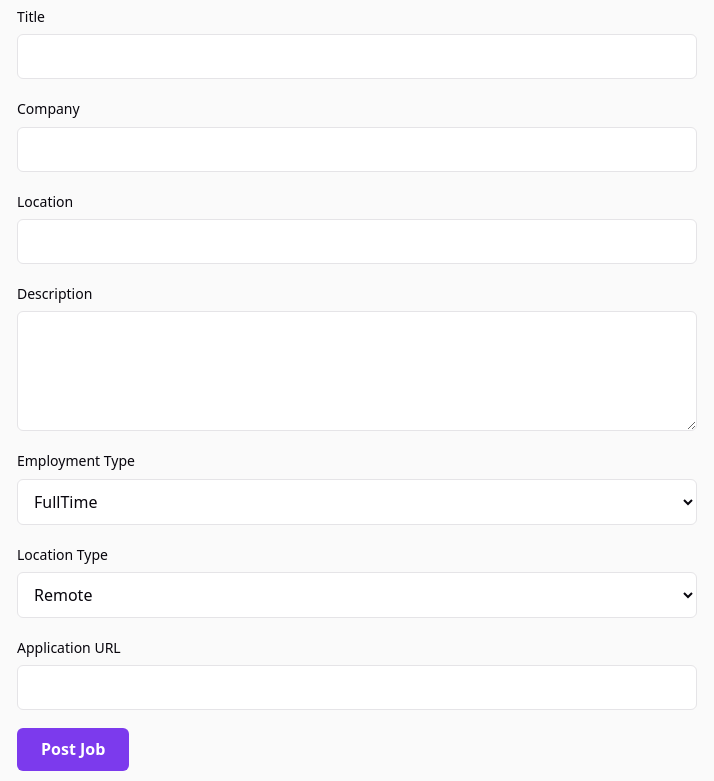
PostJob › rejects an applicationUrl with a disallowed scheme
The width and height of the screenshot is (714, 781).
Type "javascript:alert(1)" into the field labelled "Application URL" at (357, 688), box [17,665,697,710]
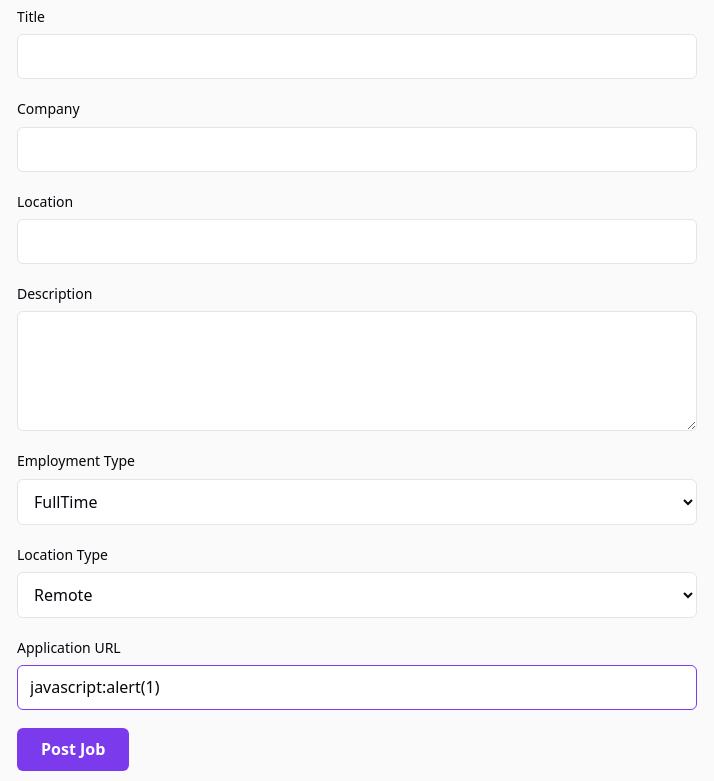
Click the button "Post Job" at (73, 750), box [17,728,129,771]
(page scrolled)
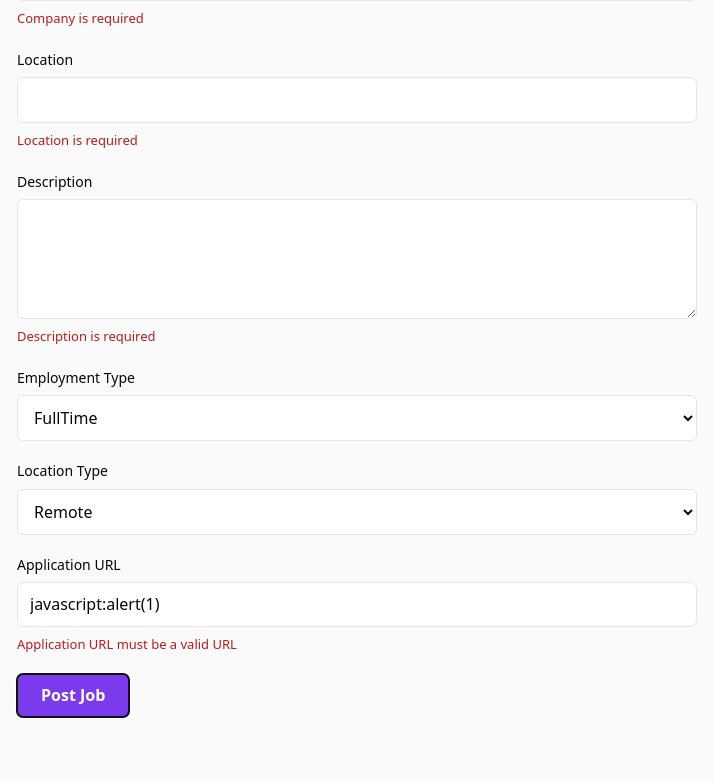
Check: the text "Application URL must be a valid URL" is shown, box [17,635,237,653]
